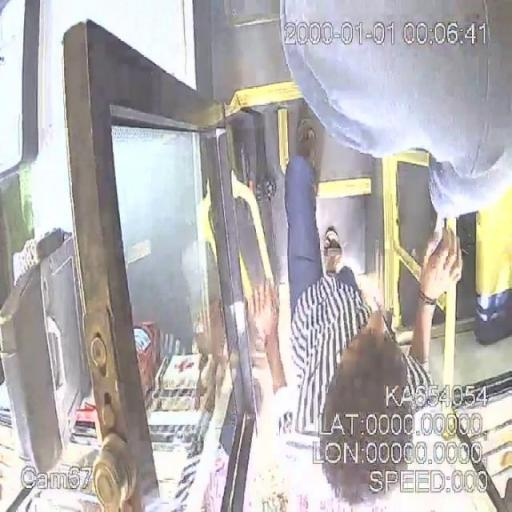persona: (264, 118, 456, 487)
